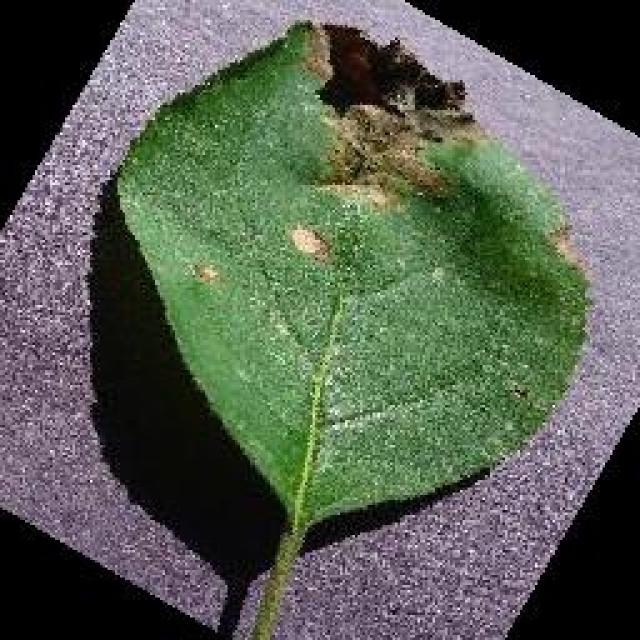Black_rot: (110, 15, 592, 637)
